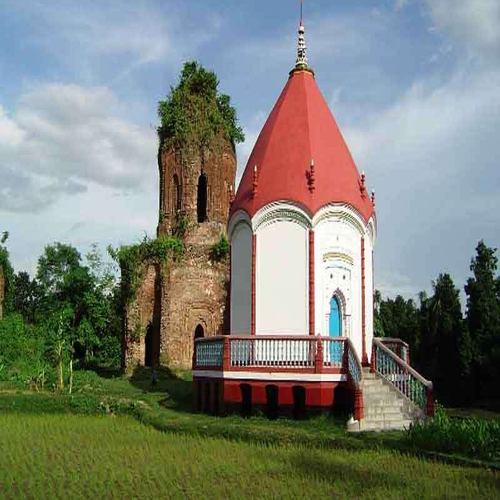Temple: (235, 20, 377, 385), (122, 66, 260, 377)
